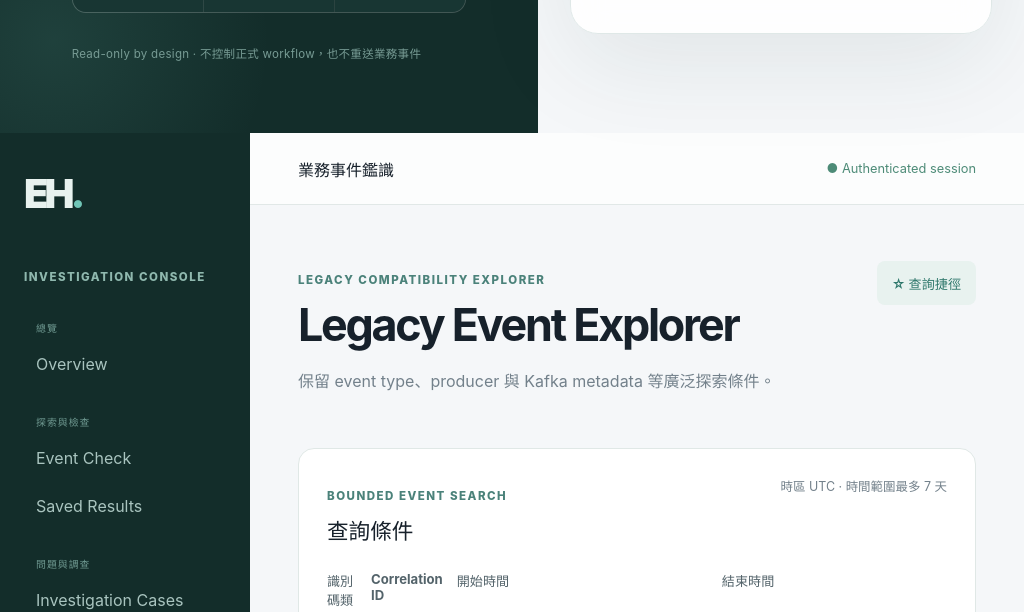
Test case: QueryShortcutsDrawer › loads built-in presets and the personal list from Timeline
The width and height of the screenshot is (1024, 612).
(page scrolled)
Click the button with test id "query-shortcuts-open": (926, 283) [877,261,976,305]
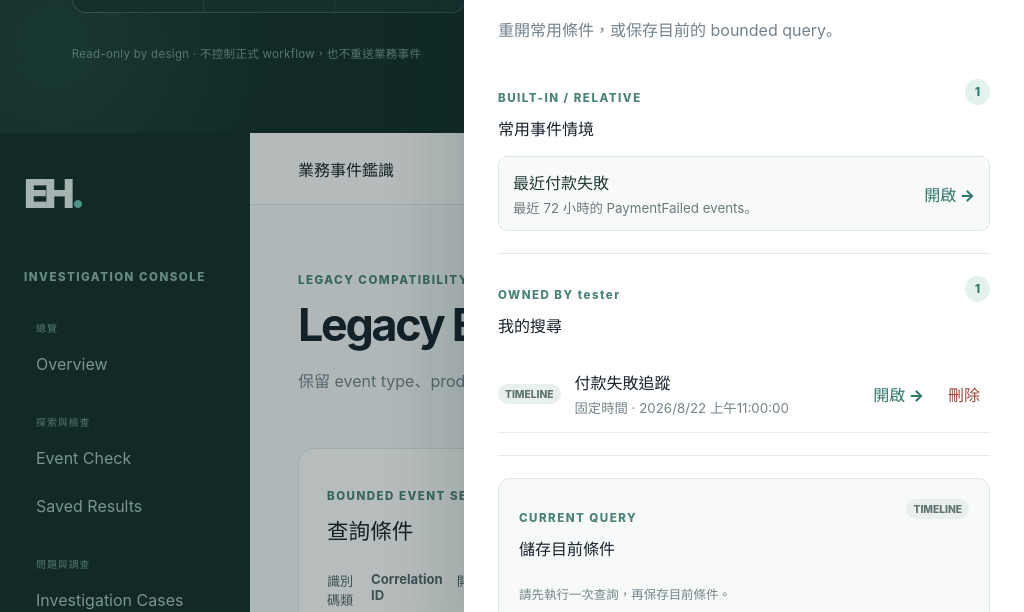
Result: the element with test id "saved-search-row-0" shows "付款失敗追蹤" at [574,373,670,393]
